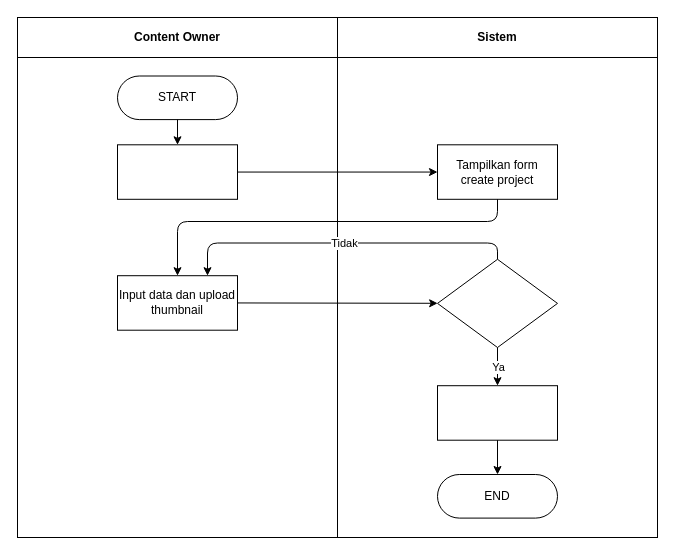
Image size: 675x559. Some labels were removed from this diagram. The shapes that lost their labels are listed below. From the top down, each one's centre as x and y in pixels, then its label:
At [177,171]: "Buka halaman create project".
At [497,303]: "Upload image berhasil?".
At [497,412]: "Tampilkan halaman Explore project".
